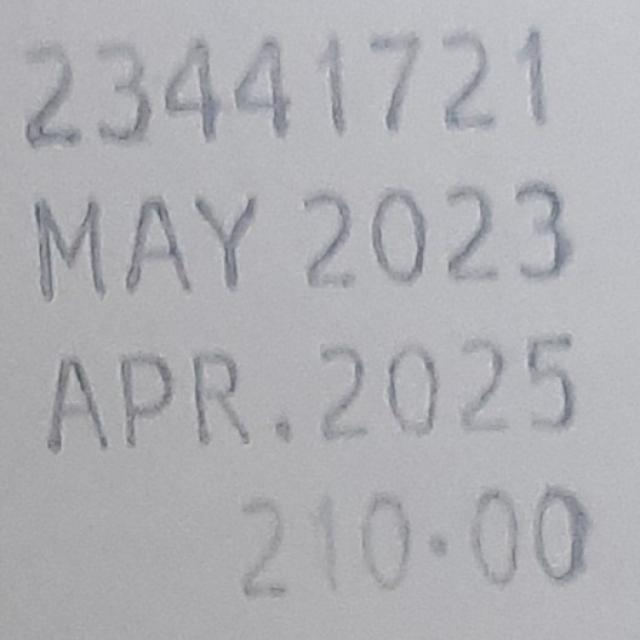sentence: (31, 179, 574, 304), (20, 27, 548, 147), (48, 334, 574, 452), (231, 487, 589, 597)
